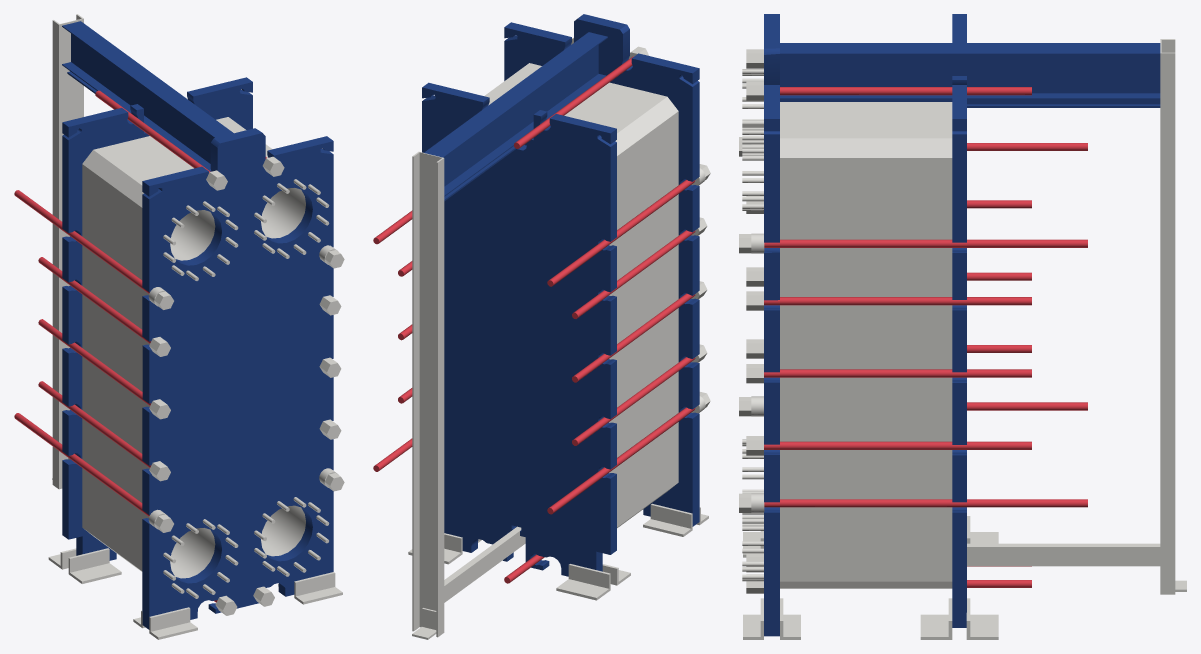
File: HVAC_Heat-Exchanger_Alfa-Laval_Alfa-Laval-T35.fbx
The picture shows the model from 3 angles, left to right: view 1: azimuth 30°, elevation 25°; view 2: azimuth 150°, elevation 25°; view 3: azimuth 270°, elevation 25°; orthographic projection. The views are drawn at different scales.
Parts seen in each view (by area): view 1: L_39127440_bf9f_4af6_9c82_c5ece4f3a2be_I6, L_7ced0e6b_f229_4d24_871e_c41d6f81af1f_I9, L_162bd5d2_1a15_4798_ba48_6523fc2de6e2_I3, L_50cd1da1_81e6_44b4_9e31_6da2080704c2_I7, L_ccf9d600_8c00_4b73_a1eb_30f42dfc8c7d_I12, L_79b6e457_47dd_421c_9863_9f8bab91f3a9_I8, L_09c1273f_e464_4b52_8421_eca2e06a58c5_I1, L_1fecafc4_1fc8_47f8_ad3e_4f73ab40b1cd_I5, L_0a96e0d0_36da_46f0_b7d5_f9158b35efd1_I2, L_19132089_b928_418e_acb4_a5c35fda7fef_I4, L_7dbb2797_ba78_4406_84e9_8292939ef648_I10; view 2: L_162bd5d2_1a15_4798_ba48_6523fc2de6e2_I3, L_7ced0e6b_f229_4d24_871e_c41d6f81af1f_I9, L_39127440_bf9f_4af6_9c82_c5ece4f3a2be_I6, L_ccf9d600_8c00_4b73_a1eb_30f42dfc8c7d_I12, L_50cd1da1_81e6_44b4_9e31_6da2080704c2_I7, L_79b6e457_47dd_421c_9863_9f8bab91f3a9_I8, L_19132089_b928_418e_acb4_a5c35fda7fef_I4, L_ac180195_f660_4e44_a276_c2dbd5b0f468_I11, L_0a96e0d0_36da_46f0_b7d5_f9158b35efd1_I2, L_09c1273f_e464_4b52_8421_eca2e06a58c5_I1; view 3: L_7ced0e6b_f229_4d24_871e_c41d6f81af1f_I9, L_50cd1da1_81e6_44b4_9e31_6da2080704c2_I7, L_79b6e457_47dd_421c_9863_9f8bab91f3a9_I8, L_39127440_bf9f_4af6_9c82_c5ece4f3a2be_I6, L_ccf9d600_8c00_4b73_a1eb_30f42dfc8c7d_I12, L_162bd5d2_1a15_4798_ba48_6523fc2de6e2_I3, L_ac180195_f660_4e44_a276_c2dbd5b0f468_I11, L_09c1273f_e464_4b52_8421_eca2e06a58c5_I1, L_1fecafc4_1fc8_47f8_ad3e_4f73ab40b1cd_I5, L_19132089_b928_418e_acb4_a5c35fda7fef_I4, L_0a96e0d0_36da_46f0_b7d5_f9158b35efd1_I2, L_7dbb2797_ba78_4406_84e9_8292939ef648_I10.
Boxes of the visible parts, left/top/right/bottom form: L_39127440_bf9f_4af6_9c82_c5ece4f3a2be_I6: left=142, top=128, right=333, bottom=629; L_7ced0e6b_f229_4d24_871e_c41d6f81af1f_I9: left=82, top=117, right=305, bottom=578; L_162bd5d2_1a15_4798_ba48_6523fc2de6e2_I3: left=62, top=77, right=252, bottom=560; L_50cd1da1_81e6_44b4_9e31_6da2080704c2_I7: left=62, top=21, right=233, bottom=171; L_ccf9d600_8c00_4b73_a1eb_30f42dfc8c7d_I12: left=52, top=14, right=83, bottom=489; L_79b6e457_47dd_421c_9863_9f8bab91f3a9_I8: left=14, top=90, right=266, bottom=602; L_09c1273f_e464_4b52_8421_eca2e06a58c5_I1: left=149, top=156, right=344, bottom=615; L_1fecafc4_1fc8_47f8_ad3e_4f73ab40b1cd_I5: left=163, top=179, right=329, bottom=598; L_0a96e0d0_36da_46f0_b7d5_f9158b35efd1_I2: left=133, top=572, right=342, bottom=639; L_19132089_b928_418e_acb4_a5c35fda7fef_I4: left=48, top=548, right=121, bottom=583; L_7dbb2797_ba78_4406_84e9_8292939ef648_I10: left=148, top=245, right=338, bottom=529; L_162bd5d2_1a15_4798_ba48_6523fc2de6e2_I3: left=422, top=82, right=616, bottom=576; L_7ced0e6b_f229_4d24_871e_c41d6f81af1f_I9: left=484, top=63, right=678, bottom=527; L_39127440_bf9f_4af6_9c82_c5ece4f3a2be_I6: left=504, top=14, right=699, bottom=526; L_ccf9d600_8c00_4b73_a1eb_30f42dfc8c7d_I12: left=412, top=151, right=444, bottom=639; L_50cd1da1_81e6_44b4_9e31_6da2080704c2_I7: left=424, top=32, right=607, bottom=201; L_79b6e457_47dd_421c_9863_9f8bab91f3a9_I8: left=373, top=56, right=695, bottom=583; L_19132089_b928_418e_acb4_a5c35fda7fef_I4: left=408, top=533, right=630, bottom=600; L_ac180195_f660_4e44_a276_c2dbd5b0f468_I11: left=444, top=526, right=525, bottom=602; L_0a96e0d0_36da_46f0_b7d5_f9158b35efd1_I2: left=643, top=503, right=708, bottom=536; L_09c1273f_e464_4b52_8421_eca2e06a58c5_I1: left=571, top=37, right=710, bottom=408; L_7ced0e6b_f229_4d24_871e_c41d6f81af1f_I9: left=780, top=102, right=952, bottom=588; L_50cd1da1_81e6_44b4_9e31_6da2080704c2_I7: left=780, top=43, right=1160, bottom=107; L_79b6e457_47dd_421c_9863_9f8bab91f3a9_I8: left=764, top=87, right=1087, bottom=587; L_39127440_bf9f_4af6_9c82_c5ece4f3a2be_I6: left=764, top=14, right=779, bottom=636; L_ccf9d600_8c00_4b73_a1eb_30f42dfc8c7d_I12: left=1160, top=39, right=1186, bottom=594; L_162bd5d2_1a15_4798_ba48_6523fc2de6e2_I3: left=952, top=14, right=966, bottom=627; L_ac180195_f660_4e44_a276_c2dbd5b0f468_I11: left=967, top=543, right=1160, bottom=566; L_09c1273f_e464_4b52_8421_eca2e06a58c5_I1: left=739, top=49, right=763, bottom=593; L_1fecafc4_1fc8_47f8_ad3e_4f73ab40b1cd_I5: left=742, top=69, right=763, bottom=581; L_19132089_b928_418e_acb4_a5c35fda7fef_I4: left=920, top=516, right=998, bottom=639; L_0a96e0d0_36da_46f0_b7d5_f9158b35efd1_I2: left=743, top=531, right=800, bottom=639; L_7dbb2797_ba78_4406_84e9_8292939ef648_I10: left=751, top=144, right=764, bottom=513.
Bounding box in the file's own units: 1179 × 2119 × 2875.
